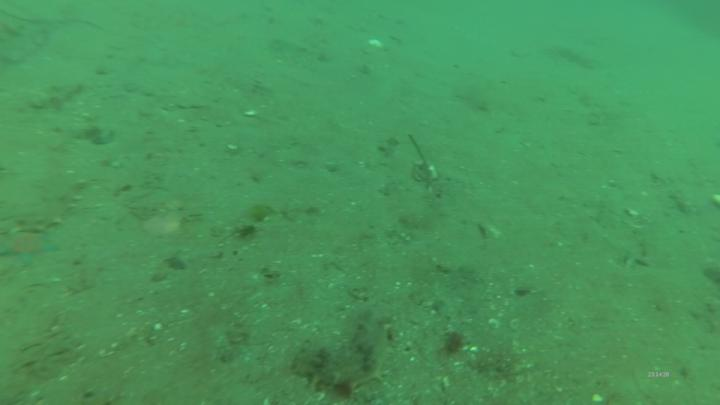holothurian: (292, 307, 388, 390)
starfish: (2, 228, 63, 266)
